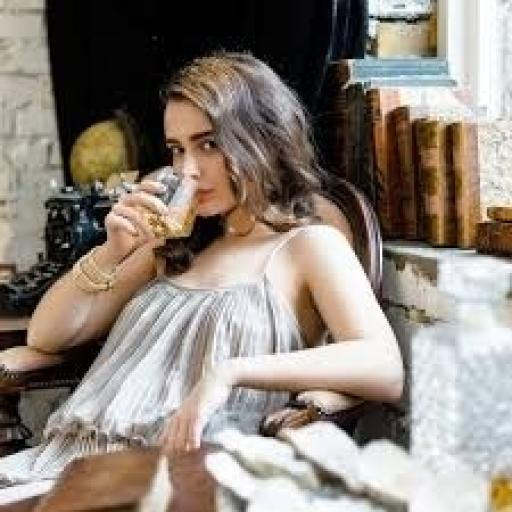drinking: (107, 164, 200, 241)
